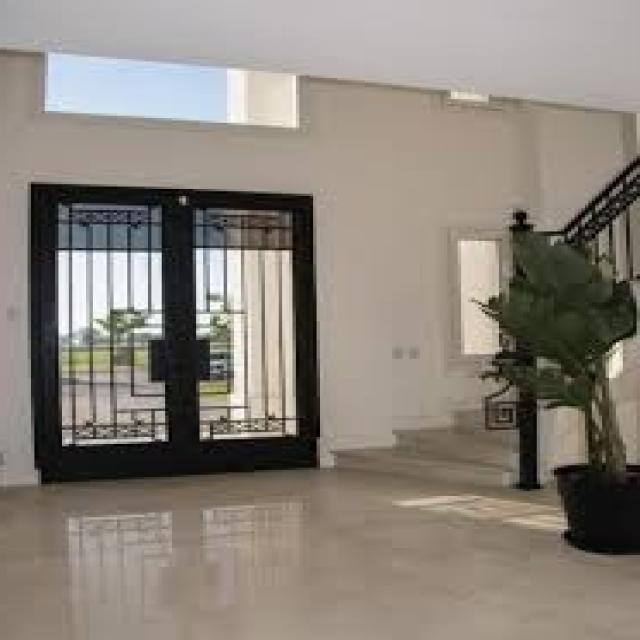door: (31, 182, 320, 482)
